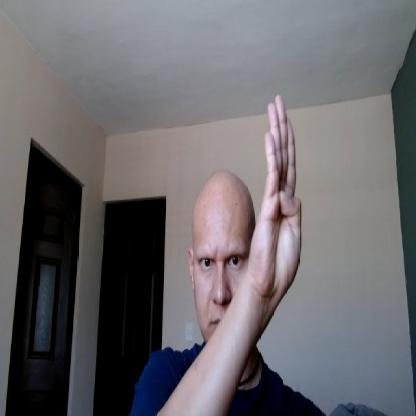B: (257, 94, 304, 302)
